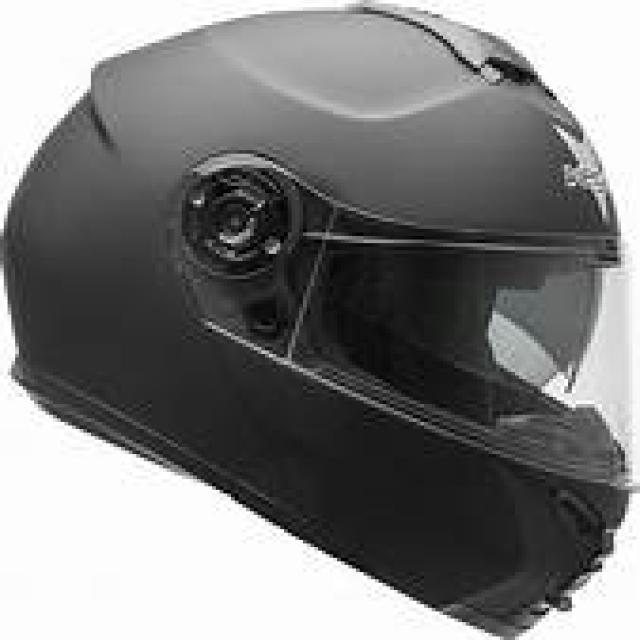helmet: (8, 7, 625, 636)
